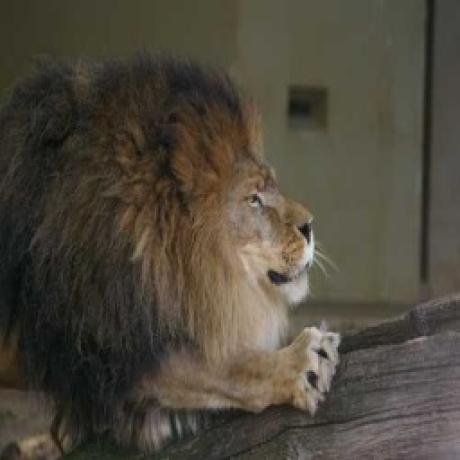Lion: (0, 49, 347, 449)
